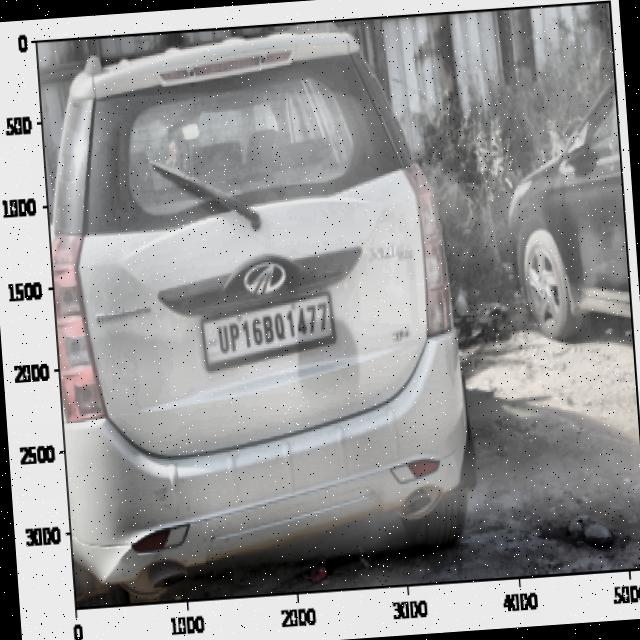license_plate: (213, 296, 336, 357)
